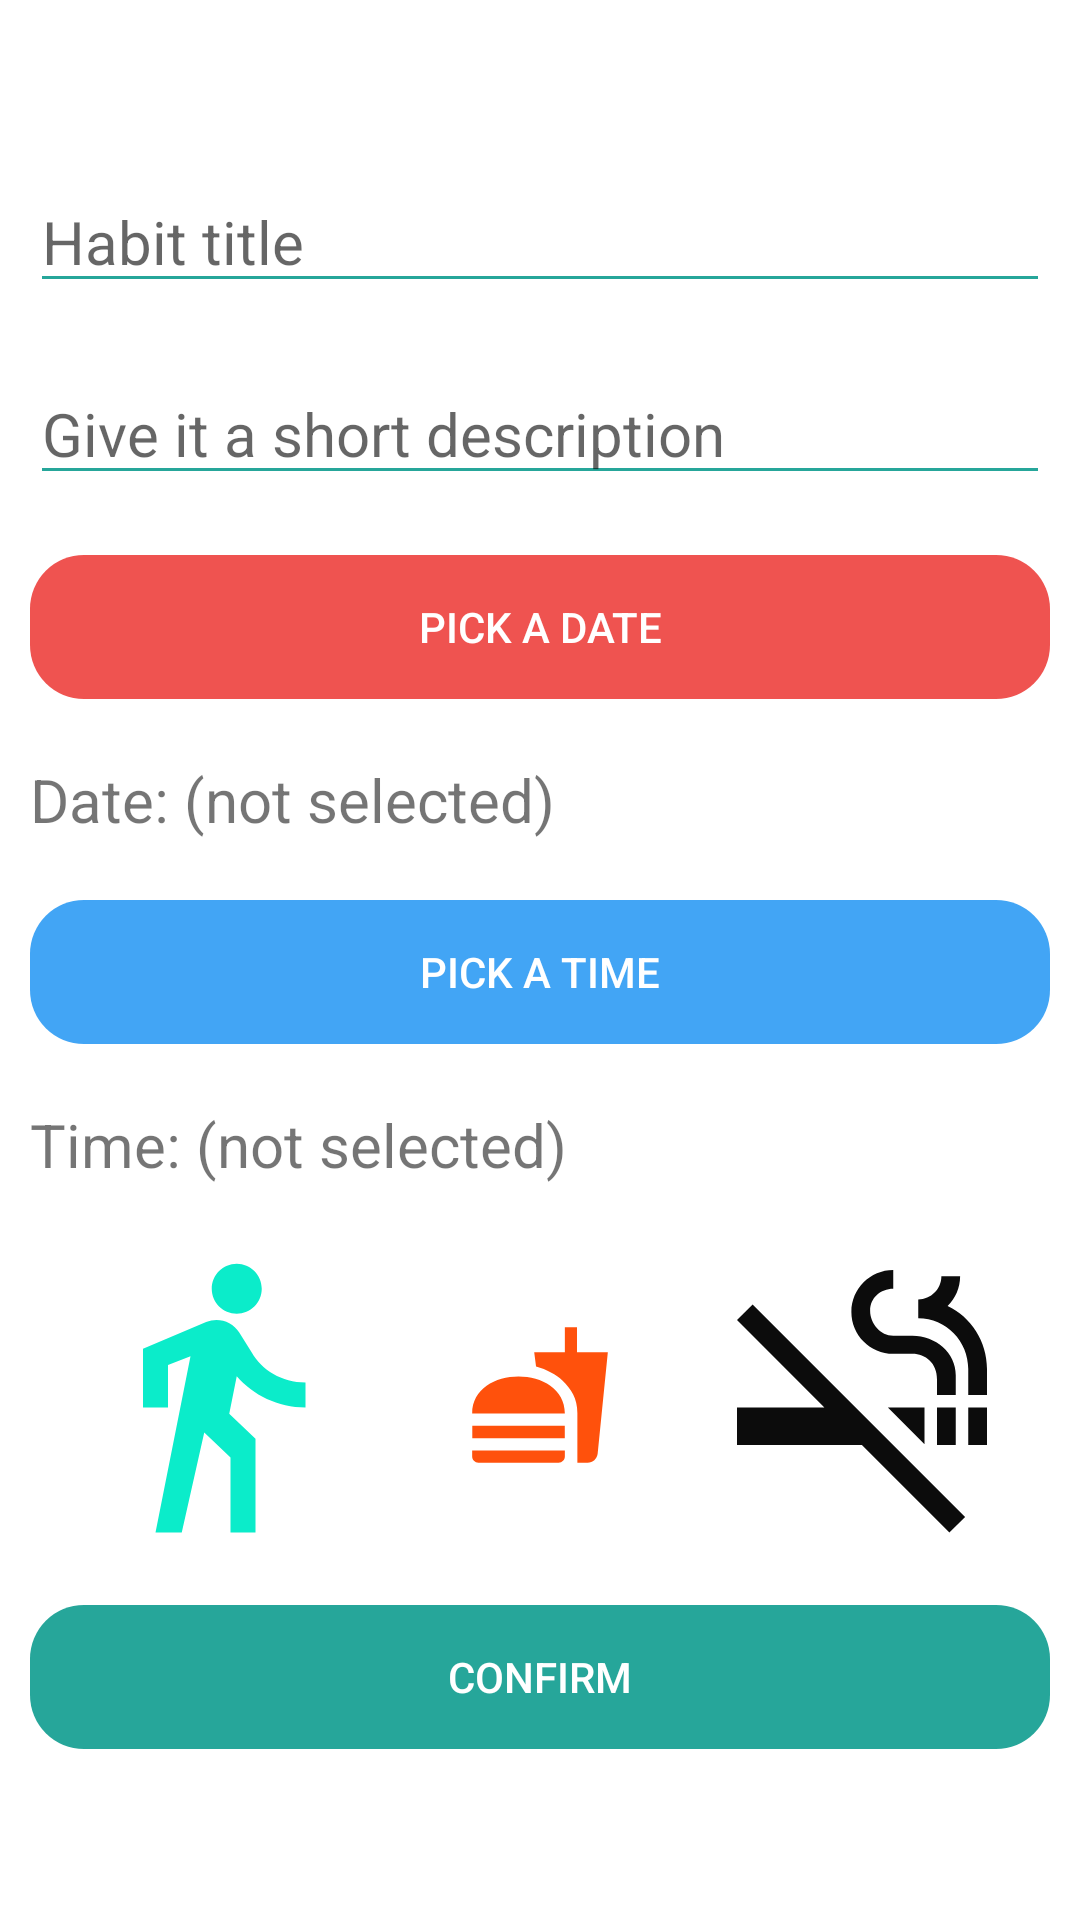

Icons on this 1080 x 1920 Android screen, each with the point to tap as (x,y):
food: (540,1395)
smoke: (862,1401)
walk: (224,1398)
